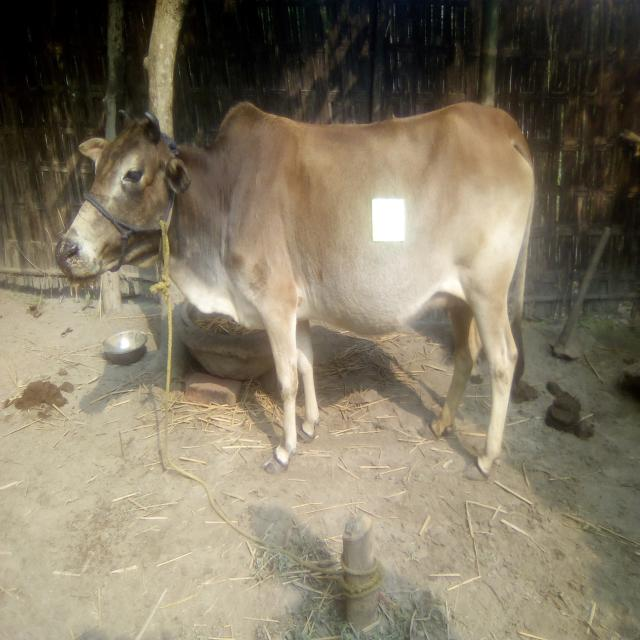badan_sapi: (234, 102, 534, 336)
sapi: (52, 94, 537, 487)
